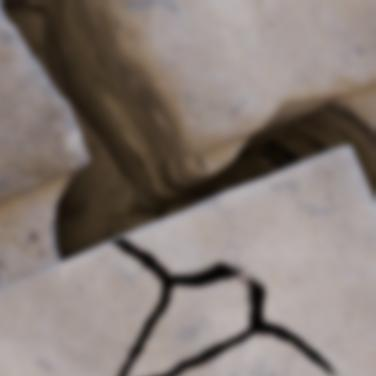brick: (124, 147, 375, 375), (0, 243, 159, 375), (180, 335, 329, 375)
broken_brick: (101, 0, 375, 154), (0, 6, 88, 202)
crack: (0, 0, 375, 375)
